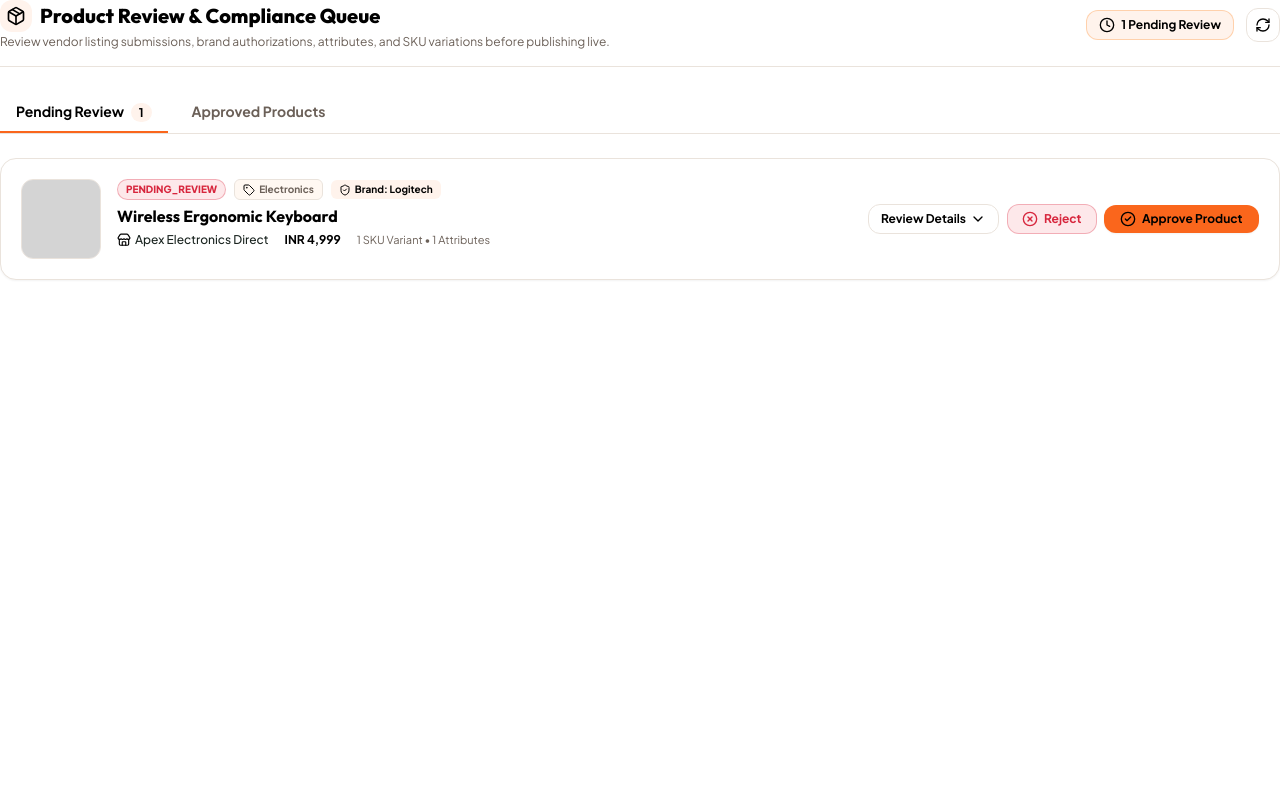
Scenario: ProductReviewModule Component › 4. Rejects product with mandatory reason and removes it from queue upon API response
Check: the heading "Wireless Ergonomic Keyboard" is shown, box [117,206,338,226]
// Open reject modal
Click the button "Reject" at (1052, 219), box [1007,204,1096,234]
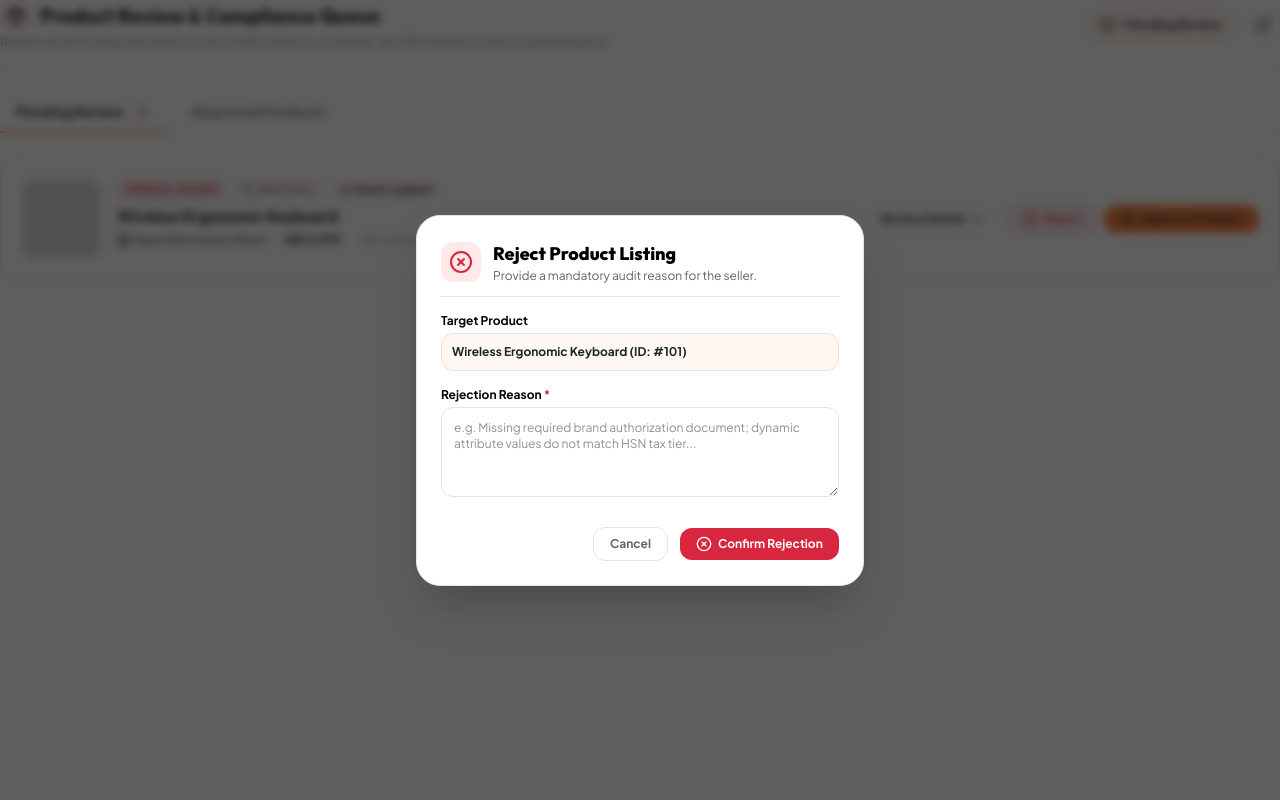
Check: the heading "Reject Product Listing" is shown, box [493,242,676,264]
// Try submitting without reason (should show validation error)
Click the button "Confirm Rejection" at (760, 544), box [680,528,839,560]
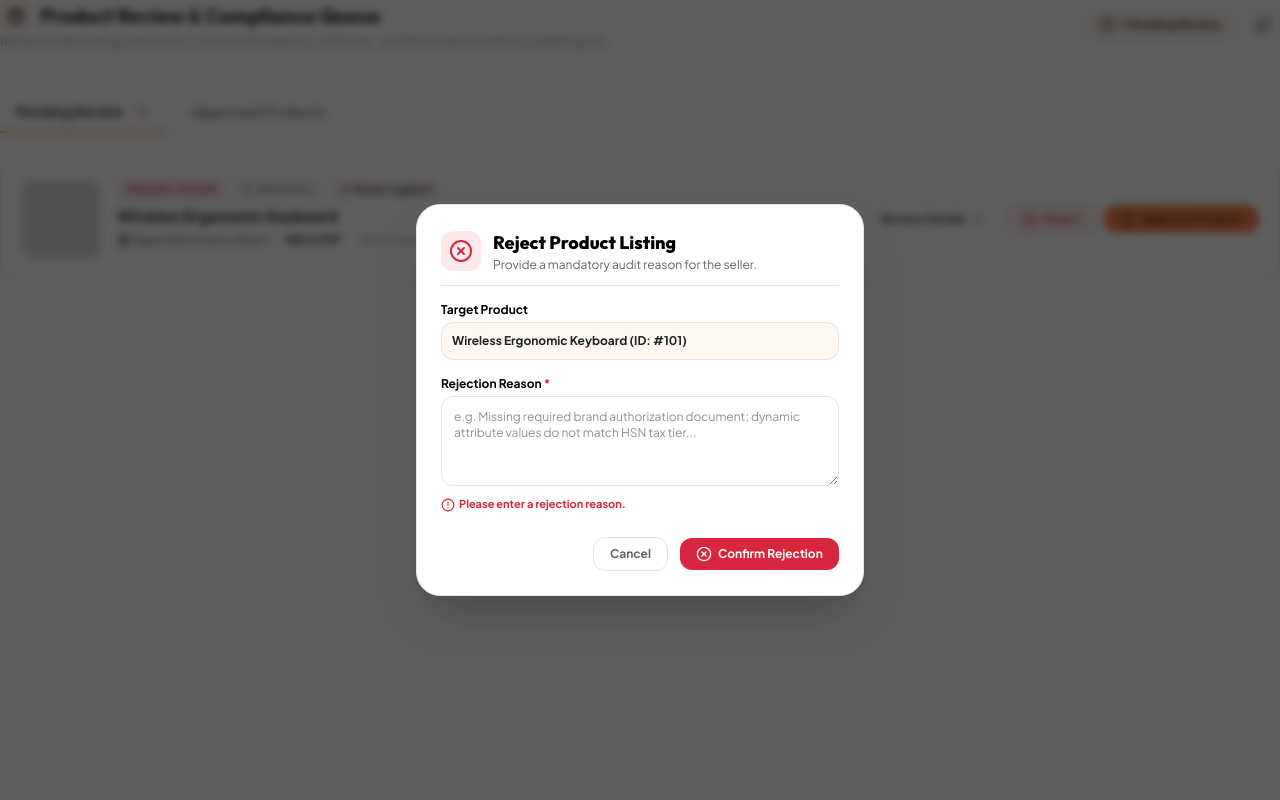
Check: the text "Please enter a rejection reason." is shown, box [459,496,626,513]
// Type valid reason and submit
Replace the text in the text box with placeholder "Missing required brand authorization document" with "Invalid HSN code provided for keyboard category." at (640, 441), box [441,396,839,486]
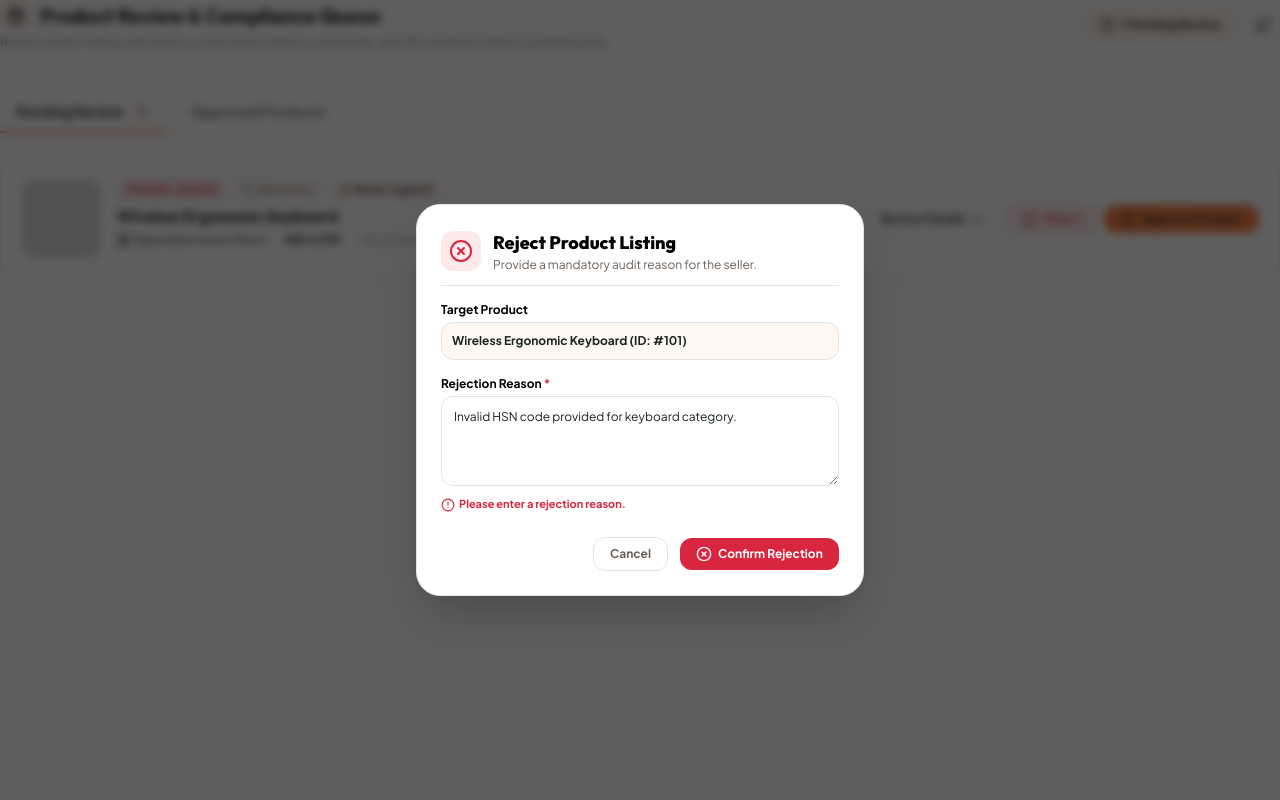
Click the button "Confirm Rejection" at (760, 554), box [680,538,839,570]
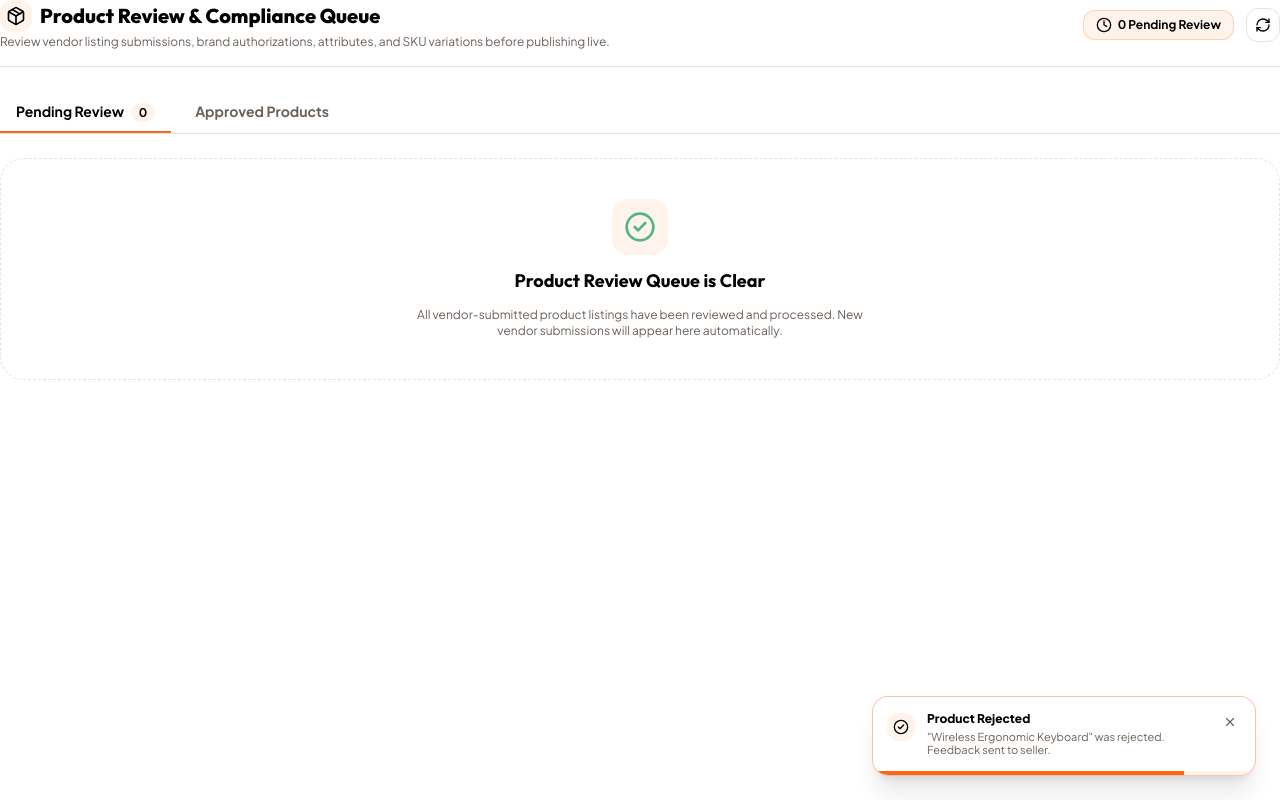
Check: the heading "Product Review Queue is Clear" is shown, box [514,269,765,292]
